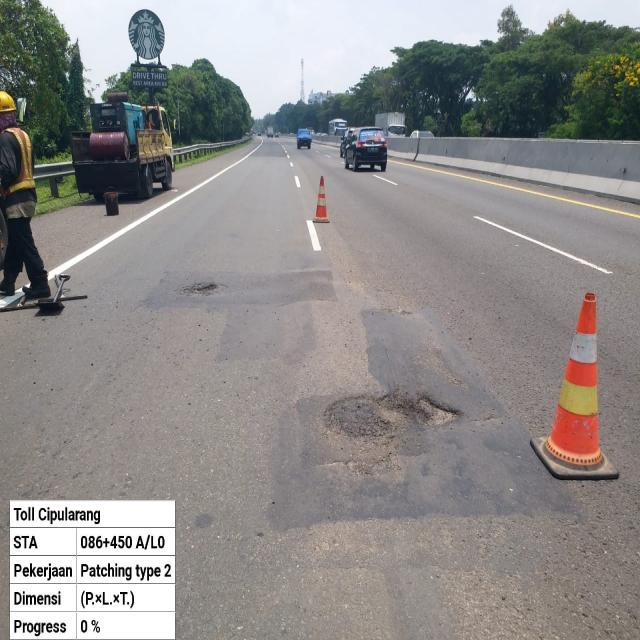Buraco: (319, 391, 466, 448), (178, 281, 231, 297)
